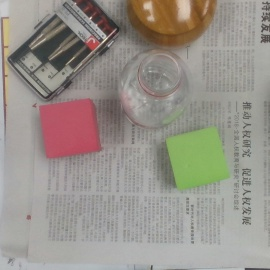bottle: (119, 50, 191, 132)
chess: (125, 1, 218, 44)
